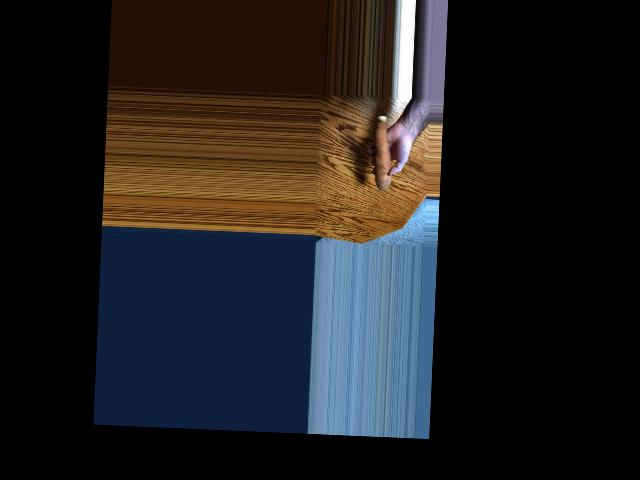sweet_potato: (367, 121, 389, 191)
